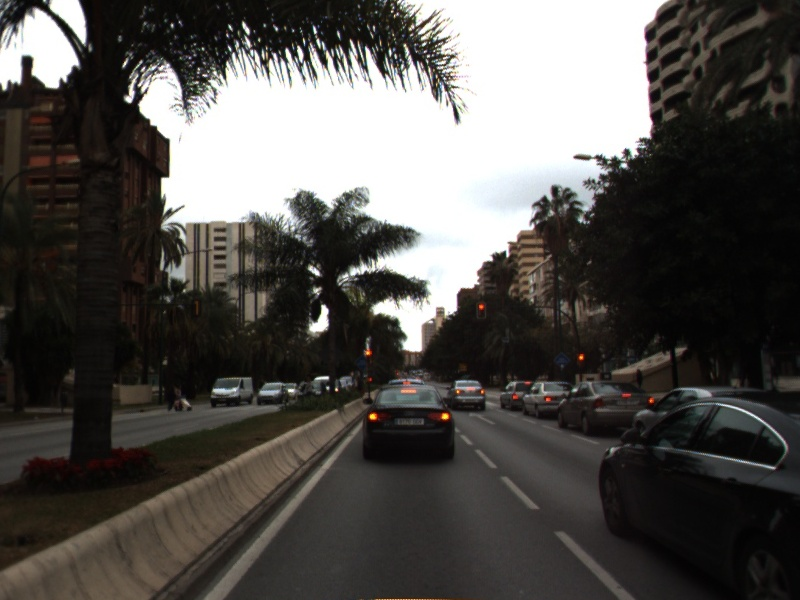STRAIGHT: (467, 409, 498, 426)
